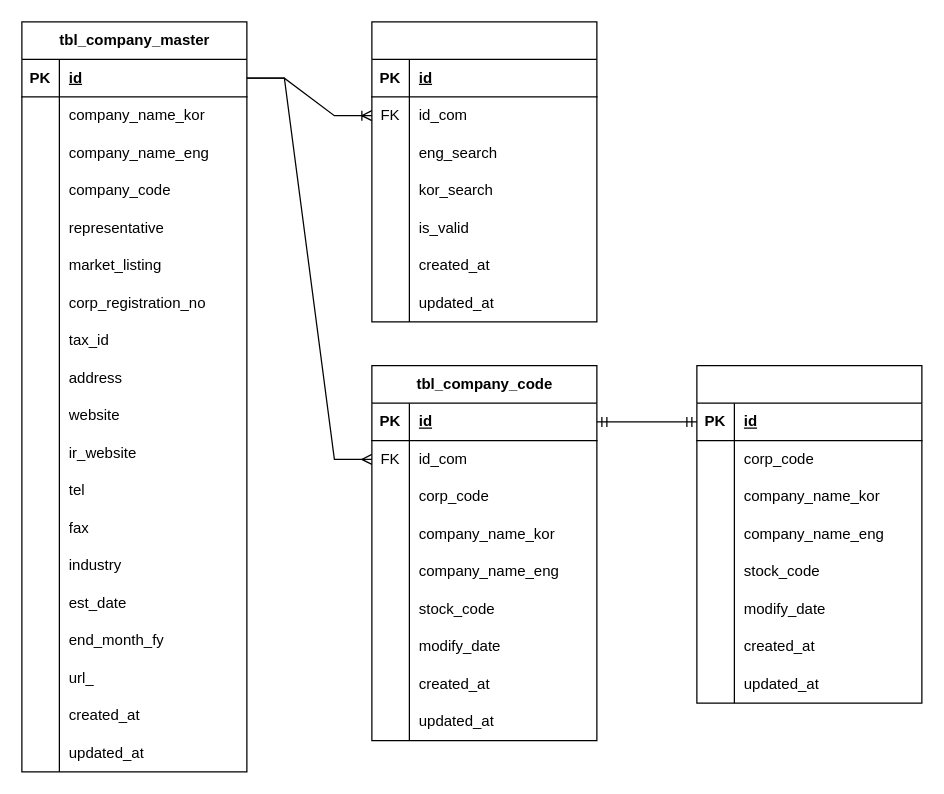
Some shapes in this 944 by 794 pixel diagram are drawn without their labels. The shapes that lost their labels are listed below. From the top down, each one's box as (x1, y1, x2, y2) in pixels, then its label:
(371, 21, 597, 322): tbl_company_deepsearch
(696, 364, 922, 703): tbl_company_code_staging
